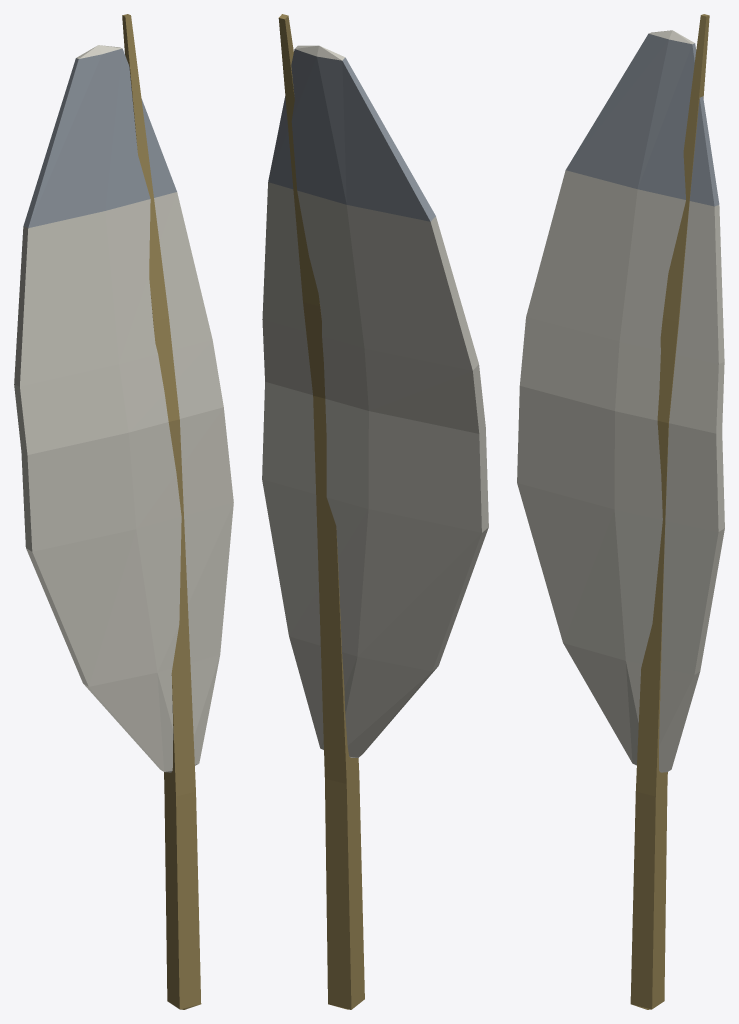
Rendered from feather.gltf.
The picture shows the model from 3 angles, left to right: view 1: azimuth 30°, elevation 25°; view 2: azimuth 150°, elevation 25°; view 3: azimuth 330°, elevation 25°; orthographic projection. The views are drawn at different scales.
Visible parts, largest first — view 1: feather; view 2: feather; view 3: feather.
Part boxes in pixels (box(x1,y1,x2,y2)): feather: box(14, 14, 233, 1009); feather: box(262, 14, 488, 1009); feather: box(517, 14, 724, 1009).
Size of the model in its own units: 0.0803 by 0.3599 by 0.0448.
